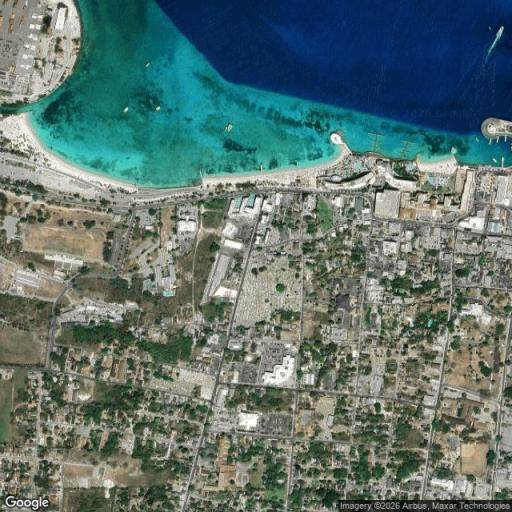ship: (497, 26, 503, 38)
